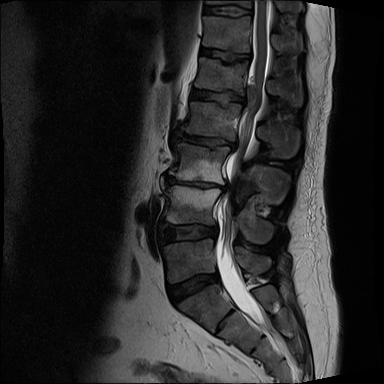Degenerative Disc Disease (DDD): (161, 175, 231, 194)
Lumbar Disc Bulge (LDB): (154, 220, 224, 247), (182, 84, 249, 110), (175, 130, 241, 152)
Normal IVD: (165, 260, 224, 311)
Spinal Stenosis (SS): (223, 133, 243, 157), (211, 177, 232, 197), (208, 221, 223, 247), (237, 90, 251, 110), (246, 48, 258, 64)
Thoracic Disc Bulge (TDB): (196, 45, 256, 65), (198, 3, 255, 20)
